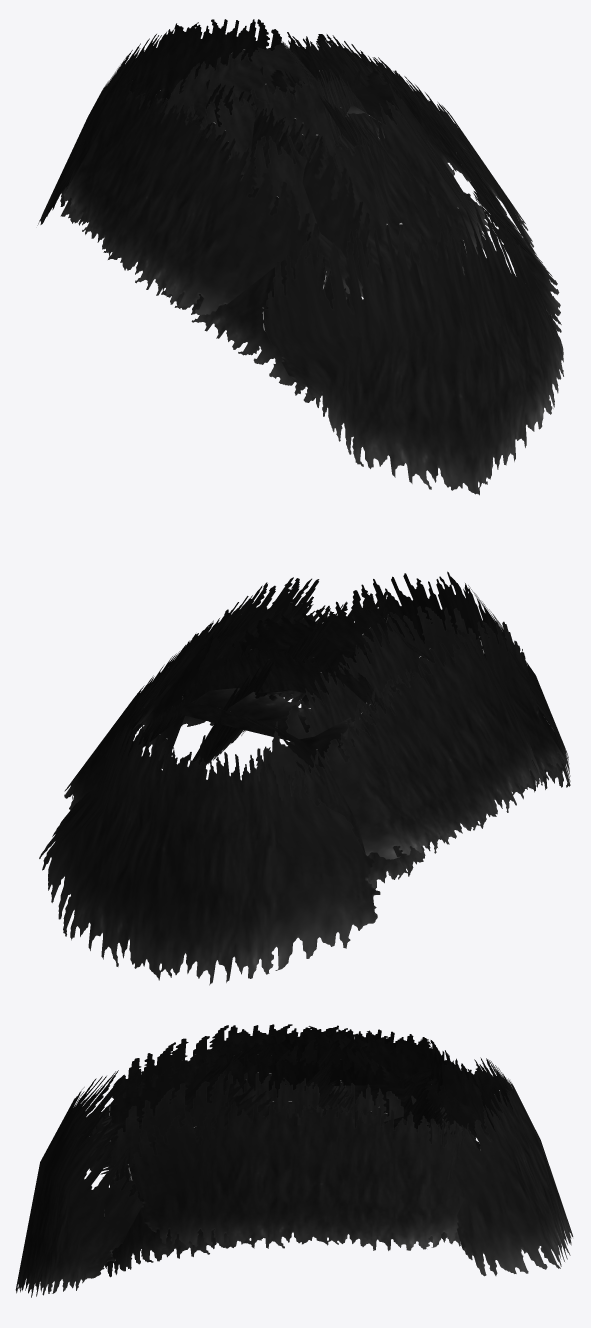
The model's file is hair_009.fbx.
3 renders of one model, top to bottom at view 1: azimuth 30°, elevation 25°; view 2: azimuth 150°, elevation 25°; view 3: azimuth 270°, elevation 25°, orthographic. The views are drawn at different scales.
Visible parts, largest first — view 1: hair_009; view 2: hair_009; view 3: hair_009.
Part boxes in pixels (x1,y1,x2,y2): hair_009: [37, 19, 563, 495]; hair_009: [39, 571, 570, 985]; hair_009: [15, 1024, 573, 1297].
Size of the model in its own units: 12.18 by 8.78 by 18.68.
